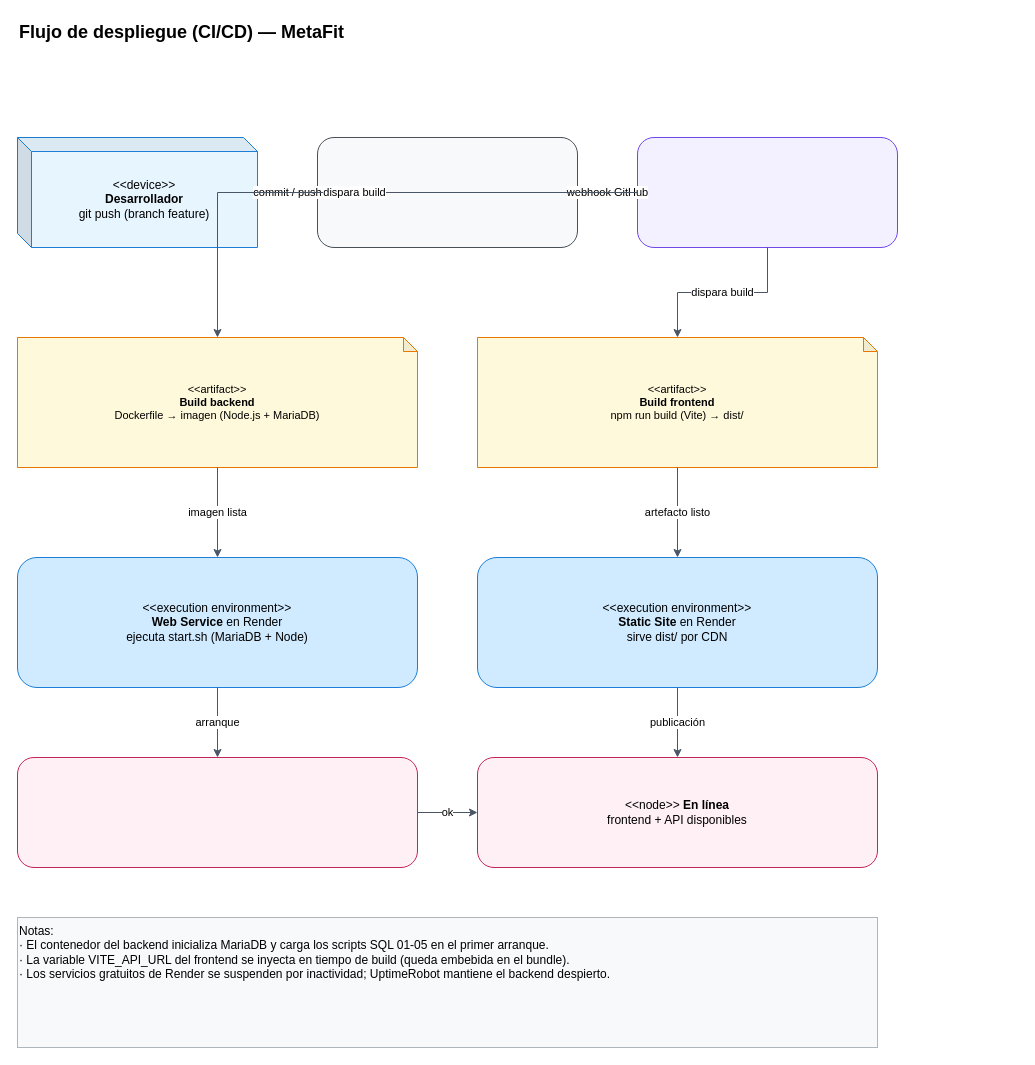
The diagram is 1035 pixels wide and 1065 high, and some of its shapes have lost their labels. The box of each missing label's shape, as (x1, y1, x2, y2) in pixels:
<<artifact repository>> GitHub repositorio Equipo_Metafit: (316, 136, 578, 248)
<<node>> Health check GET /health → { status: ok, db }: (16, 756, 418, 868)
<<service>> Render Auto-Deploy detecta el push a la rama: (636, 136, 898, 248)
